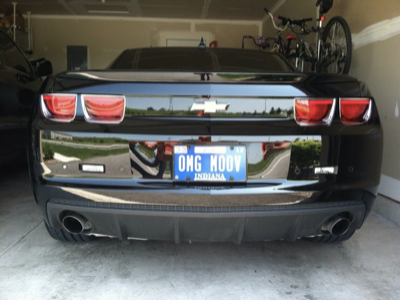licence: (173, 143, 247, 183)
